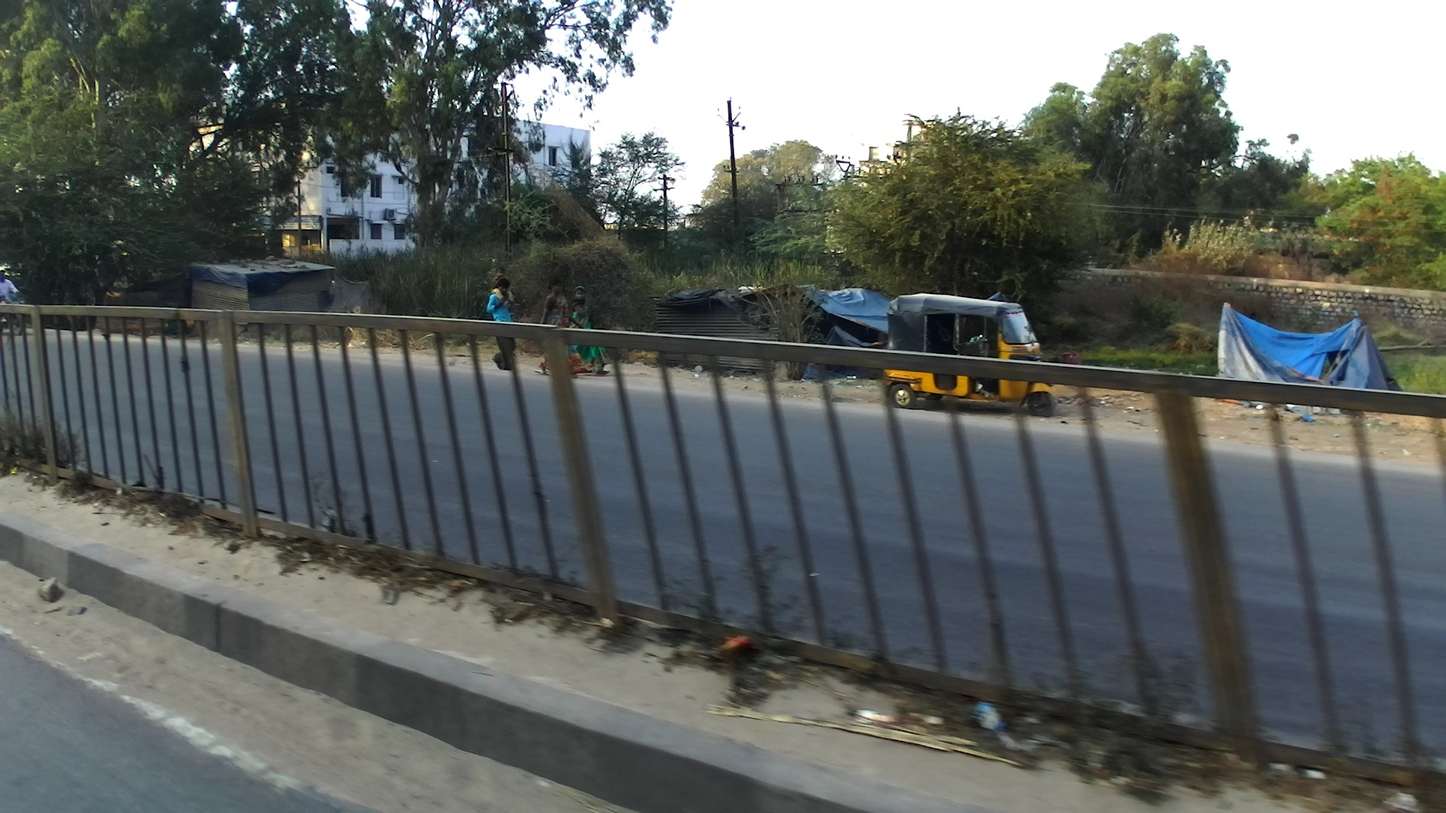autorickshaw: (885, 290, 1042, 390)
motorcycle: (1, 288, 26, 313)
person: (483, 279, 515, 333), (539, 280, 569, 336), (566, 282, 592, 334)
rider: (2, 270, 22, 307)
